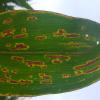Corn Gray leaf spot: (1, 7, 99, 99)
